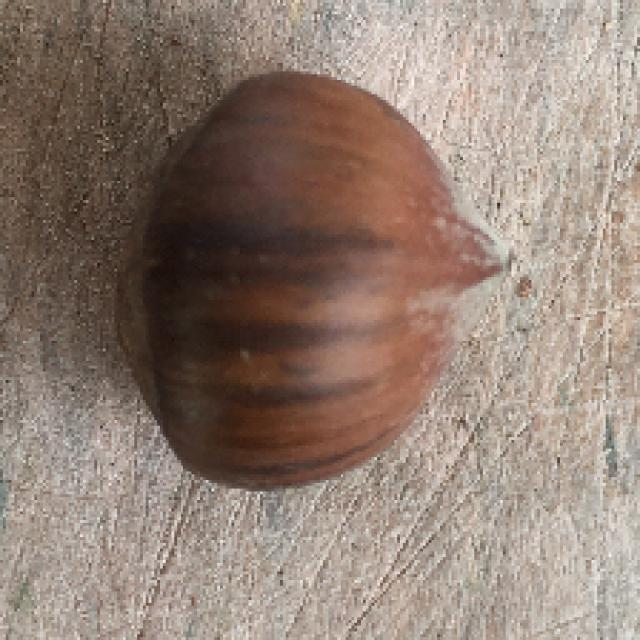qualityHazelnut: (119, 64, 508, 494)
